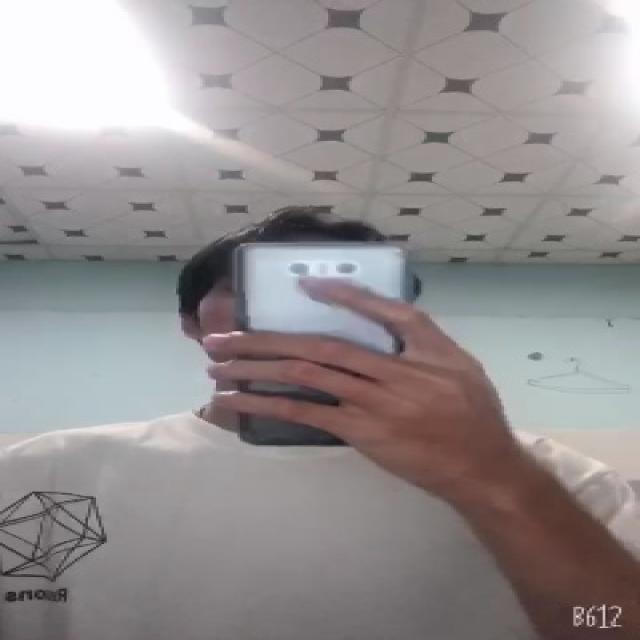Phone: (226, 239, 414, 445)
